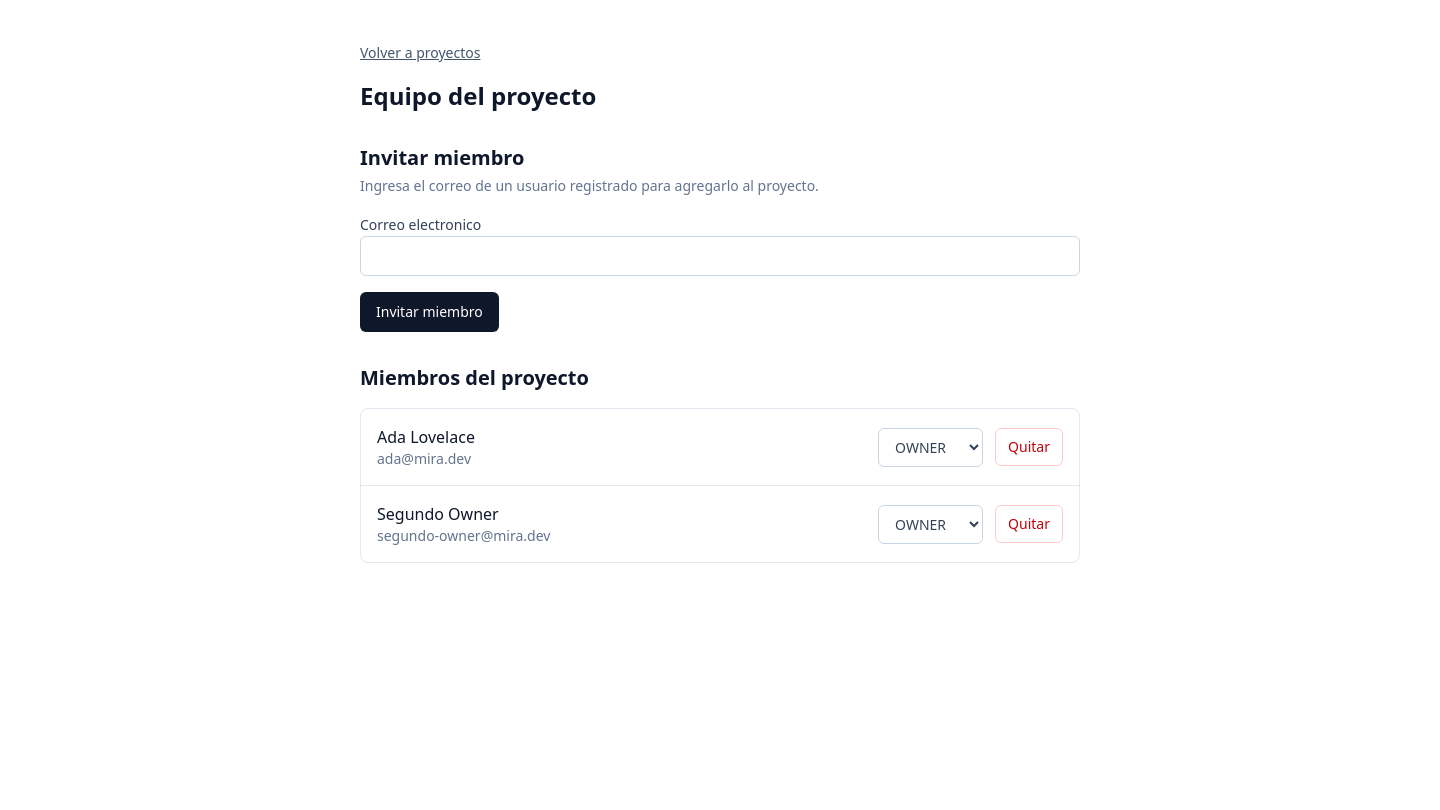
Test case: ProjectMembersPage - MIR-10 › permite eliminar un OWNER cuando existe otro OWNER
Check: the list item "Segundo Owner" is shown, box [377,503,499,525]
What coordinates should you click on to do the following:
click the button "Quitar" in the row of "Segundo Owner"
I would click on:
 (1029, 524)
Its box is [995,505,1063,543].
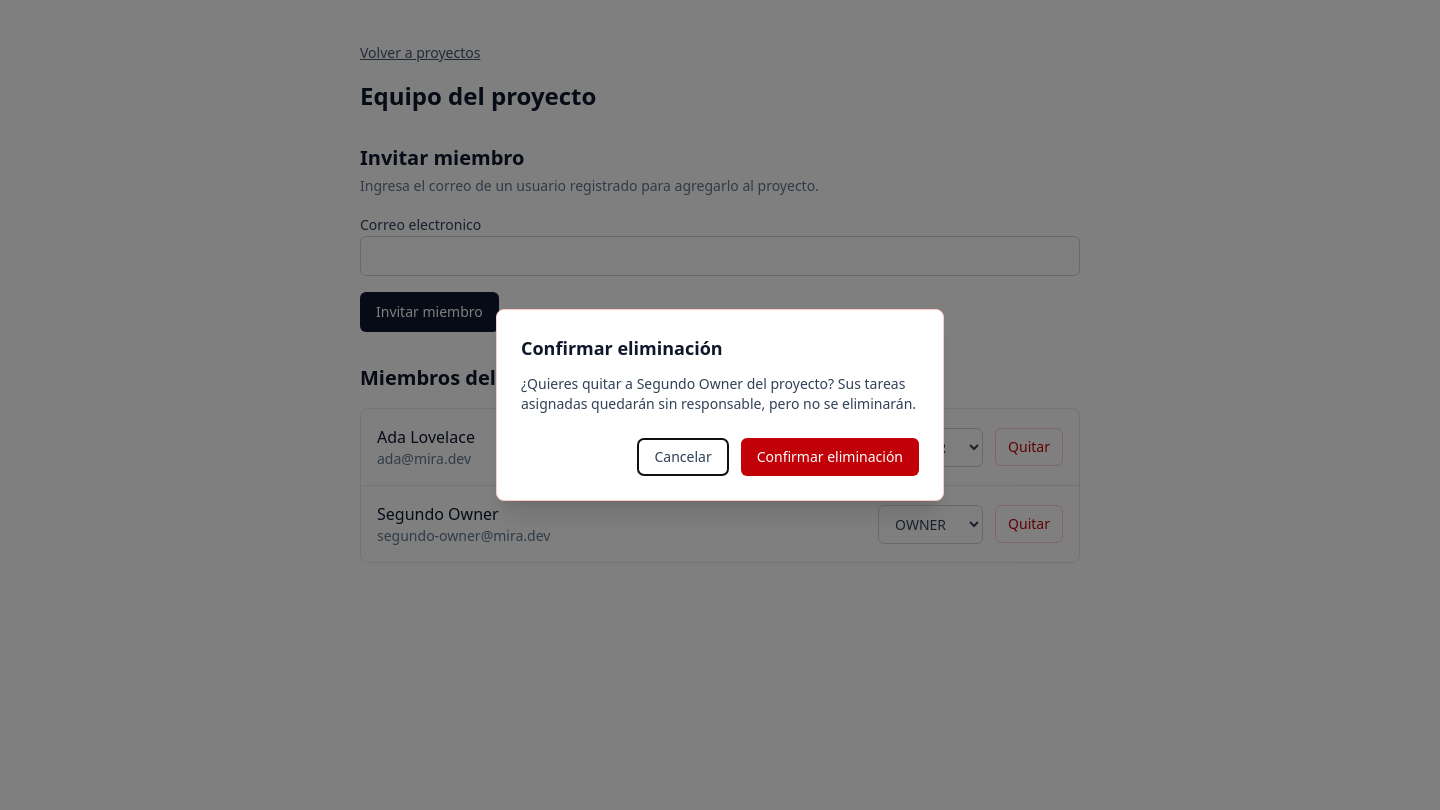
What coordinates should you click on to do the following:
click the button "Confirmar eliminación"
I would click on:
 (830, 457)
Its box is [741,438,919,476].
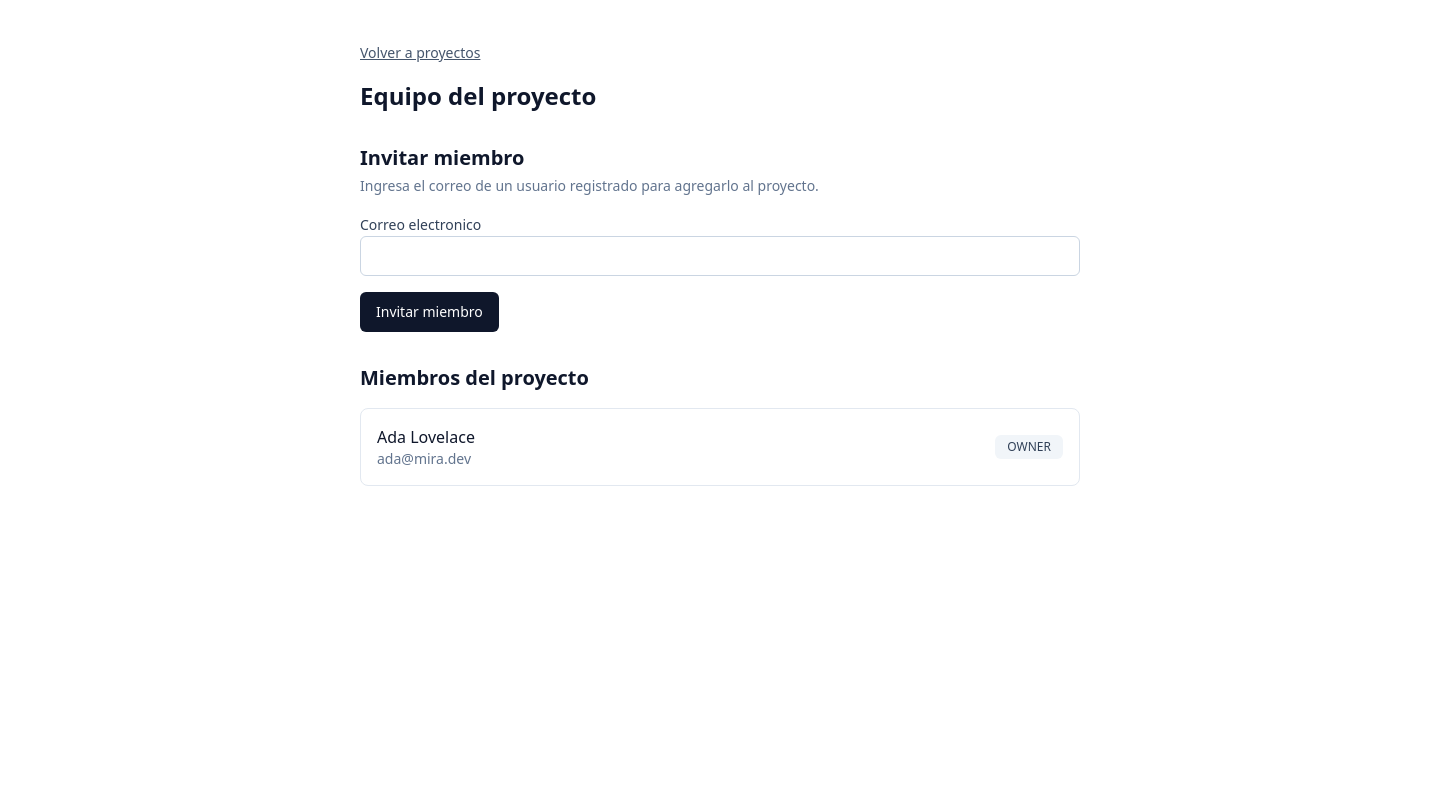
Check: the text "Ada Lovelace" is shown, box [377,426,475,448]
Check: the text "Segundo Owner" is gone
Check: the button "Quitar" is gone
